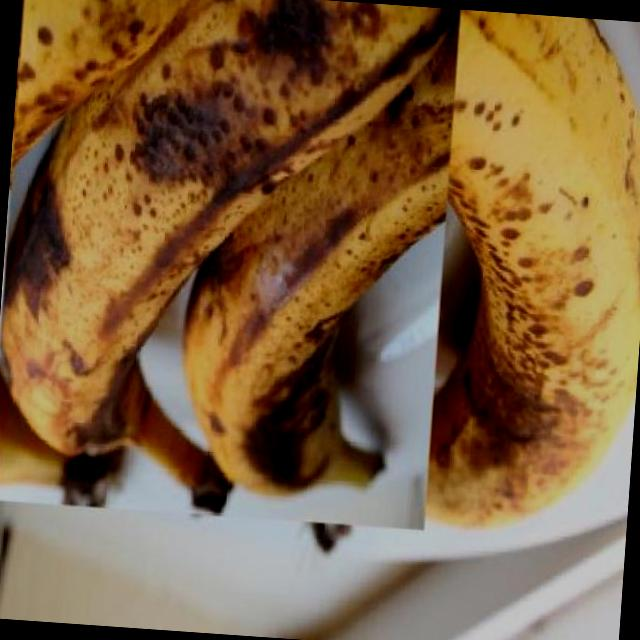Banana: (0, 0, 461, 530), (303, 0, 640, 575)
